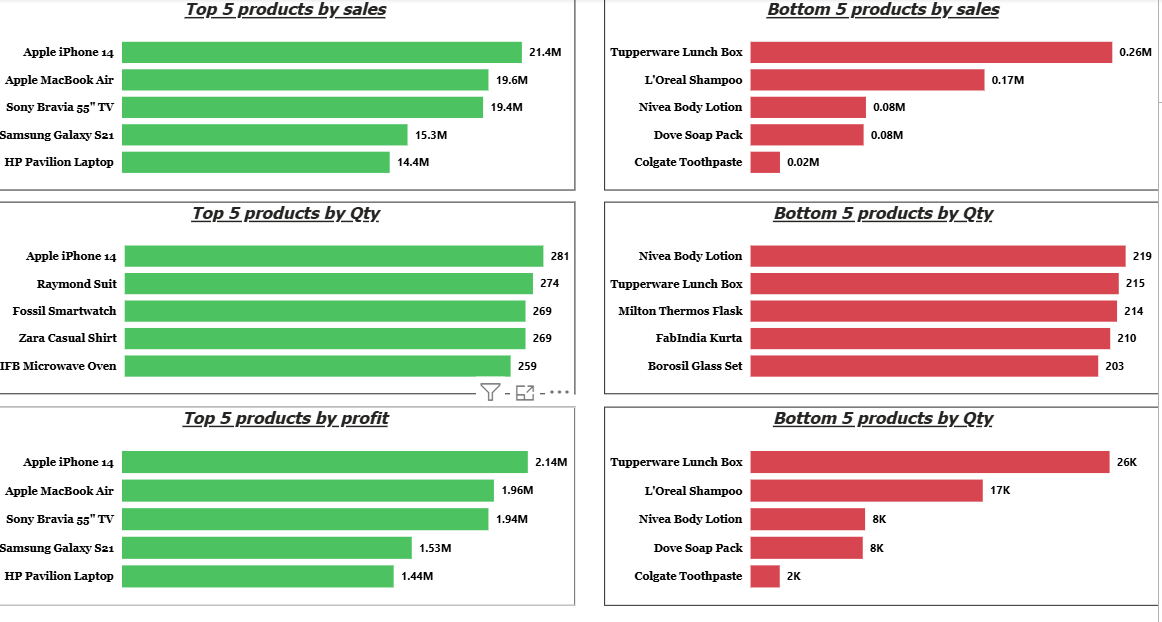

What the dashboard file says about the page in this screenshot:
{"tool":"powerbi","page":{"name":"Top/Bottom 5 analysis","canvas":[1280,720],"ordinal":1},"visuals":[{"type":"barChart","title":"Top 5 products by sales","fields":{"Y":["Sum(fact_table.Net Sales  )"],"Category":["Dim Product.Product Name"]},"box":[0,0,639.5,211.3],"z":0},{"type":"barChart","title":"Bottom 5 products by sales","fields":{"Y":["Sum(fact_table.Net Sales  )"],"Category":["Dim Product.Product Name"]},"box":[671,0,609.3,211.3],"z":1000},{"type":"barChart","title":"Top 5 products by Qty","fields":{"Category":["Dim Product.Product Name"],"Y":["Sum(fact_table.Units Sold)"]},"box":[0,223.7,639.5,211.3],"z":2000},{"type":"barChart","title":"Bottom 5 products by Qty","fields":{"Category":["Dim Product.Product Name"],"Y":["Sum(fact_table.Units Sold)"]},"box":[671,223.7,609.3,211.3],"z":3000},{"type":"barChart","title":"Top 5 products by profit","fields":{"Category":["Dim Product.Product Name"],"Y":["Sum(fact_table.profit)"]},"box":[0,448.7,639.5,218.2],"z":4000},{"type":"barChart","title":"Bottom 5 products by Qty","fields":{"Category":["Dim Product.Product Name"],"Y":["Sum(fact_table.profit)"]},"box":[671,448.7,609.3,218.2],"z":5000}]}

Visuals, with their boxes on the page's 1280x720 design canvas (x1, y1, x2, y2). These are canvas units, not pixel positions in the 1162x622 screenshot, which may show the page scaled, cropped or inside an application window:
"Top 5 products by sales" barChart: <region>0, 0, 640, 211</region>
"Bottom 5 products by sales" barChart: <region>671, 0, 1280, 211</region>
"Top 5 products by Qty" barChart: <region>0, 224, 640, 435</region>
"Bottom 5 products by Qty" barChart: <region>671, 224, 1280, 435</region>
"Top 5 products by profit" barChart: <region>0, 449, 640, 667</region>
"Bottom 5 products by Qty" barChart: <region>671, 449, 1280, 667</region>
